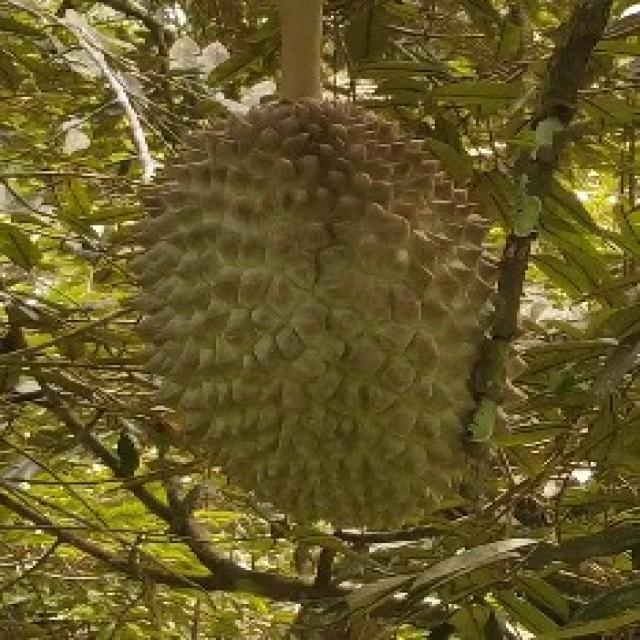mature: (106, 89, 504, 531)
